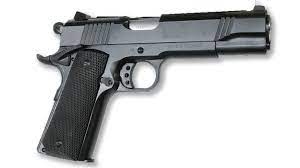weapon: (31, 1, 273, 163)
